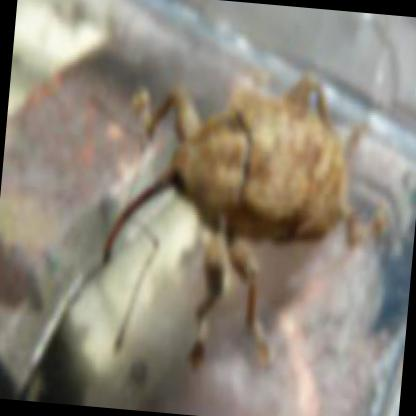ash weevil: (102, 78, 349, 365)
